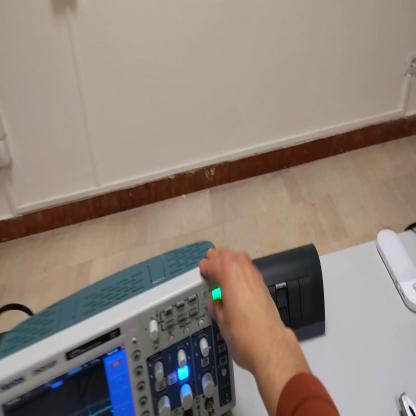hand: (200, 247, 284, 369)
oscilloscope: (1, 241, 239, 416)
